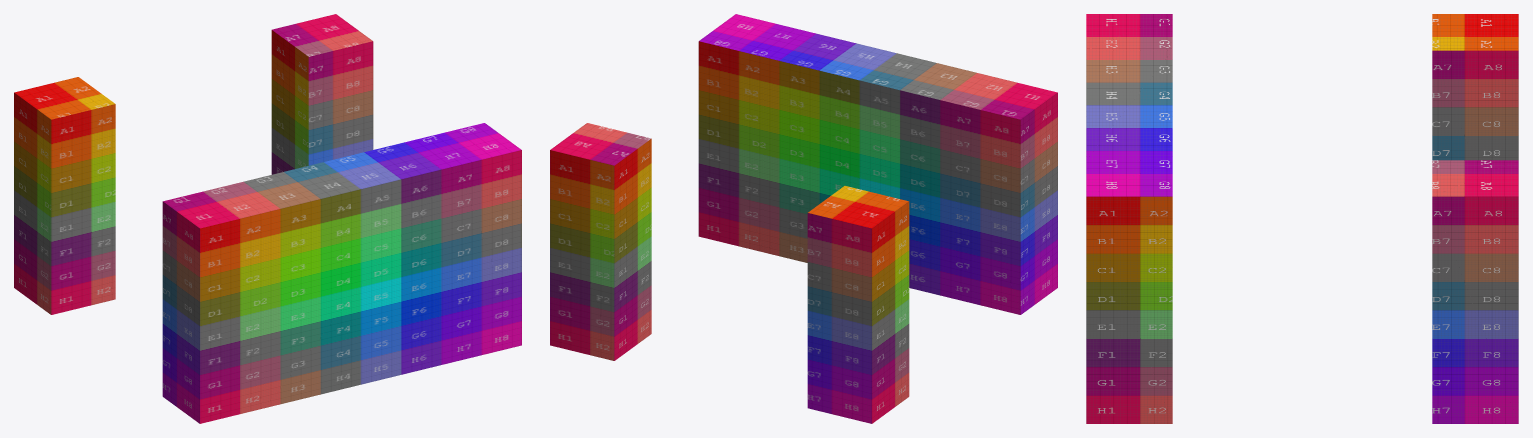
The model's file is 3-ways.fbx.
3 views of the same model, side by side, from view 1: azimuth 30°, elevation 25°; view 2: azimuth 150°, elevation 25°; view 3: azimuth 270°, elevation 25° (orthographic). The views are drawn at different scales.
Parts seen in each view (by area): view 1: 3-way; view 2: 3-way; view 3: 3-way.
Part boxes in pixels (x1=…): 3-way: x1=14, y1=14, x2=521, y2=423; 3-way: x1=550, y1=14, x2=1057, y2=423; 3-way: x1=1086, y1=14, x2=1518, y2=423.
Bounding box in the file's own units: 500 × 290 × 500.
